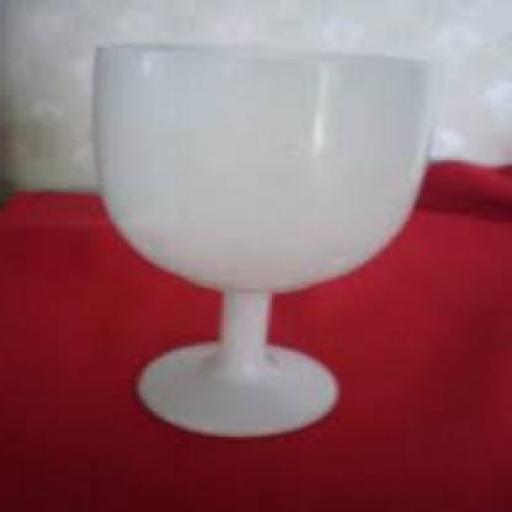glass: (92, 40, 438, 434)
